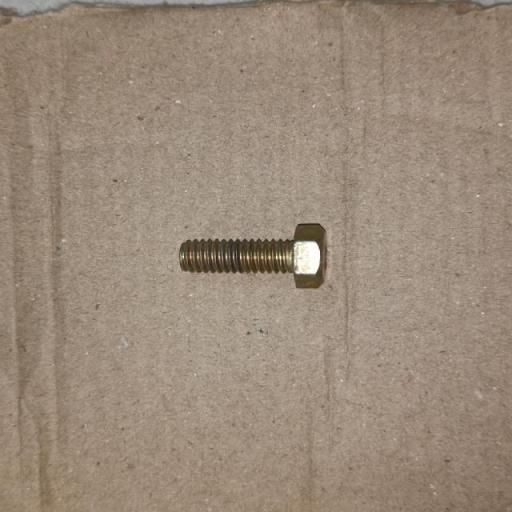Bolt: (178, 223, 327, 289)
